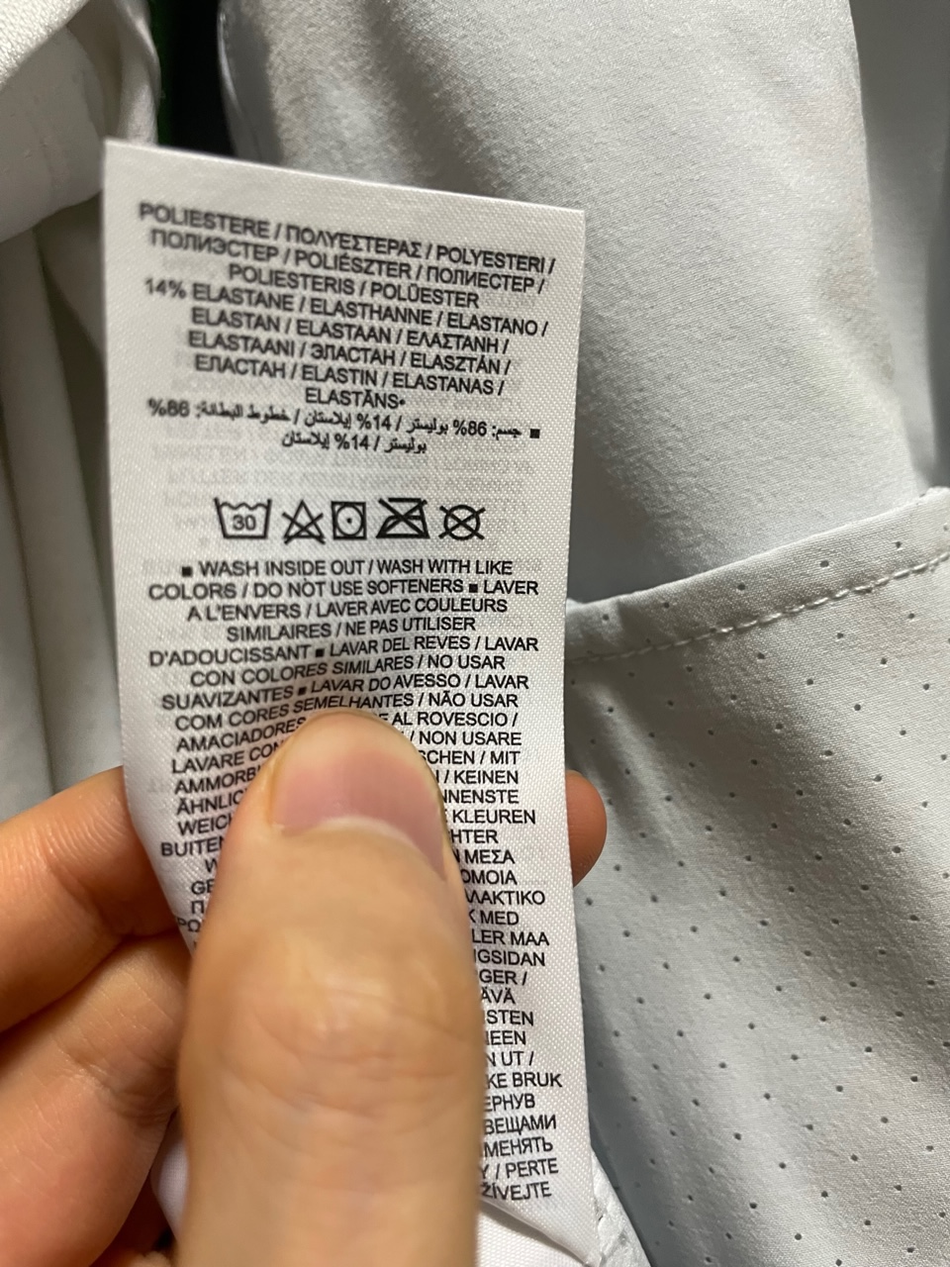ER_no_bleach: (280, 496, 327, 548)
ER_no_dry_clean: (436, 498, 488, 548)
ER_no_iron: (369, 492, 438, 544)
ER_tumble_dry_low_heat: (329, 493, 370, 545)
ER_wash_30: (212, 489, 275, 545)
